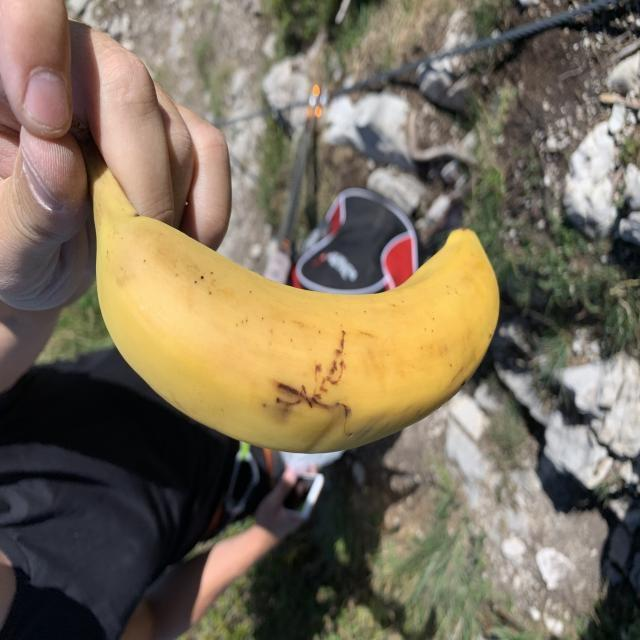banana: (94, 190, 492, 453)
